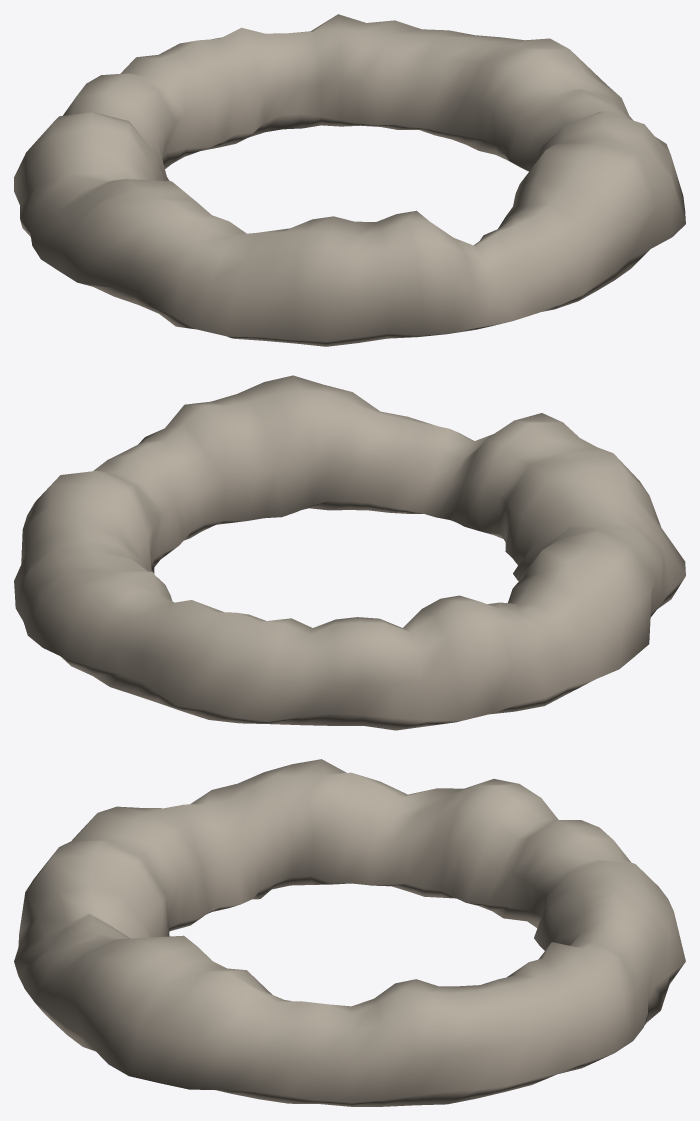
The model's file is dust_ring.glb.
The picture shows the model from 3 angles, top to bottom: view 1: azimuth 30°, elevation 25°; view 2: azimuth 150°, elevation 25°; view 3: azimuth 270°, elevation 25°; orthographic projection. The views are drawn at different scales.
Parts seen in each view (by area): view 1: dust; view 2: dust; view 3: dust.
Part boxes in pixels (x1,y1,x2,y2): dust: (14,14,685,346); dust: (14,375,685,730); dust: (14,759,685,1106).
Size of the model in its own units: 2.58 by 0.4121 by 2.56.
